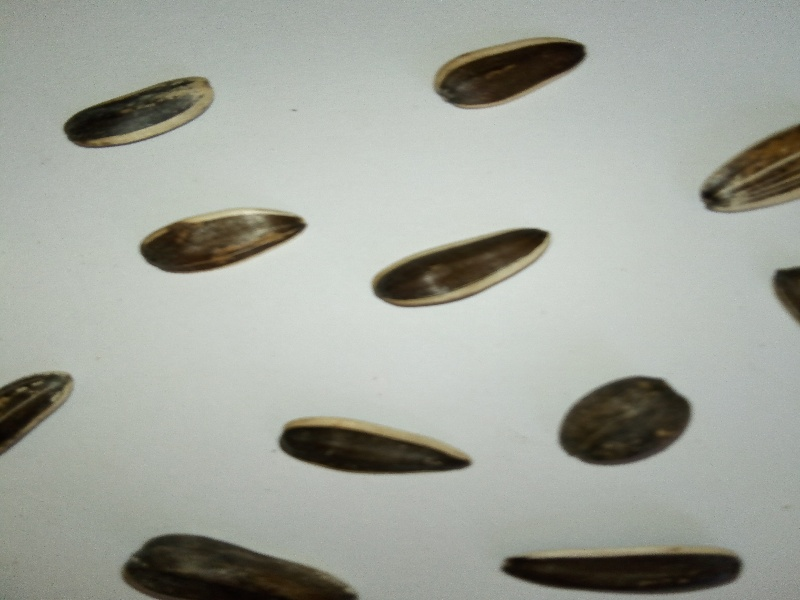girasol: (362, 215, 568, 316), (543, 359, 710, 477), (270, 407, 482, 491), (426, 25, 598, 126), (59, 69, 227, 170), (485, 541, 751, 600), (134, 200, 318, 282)
